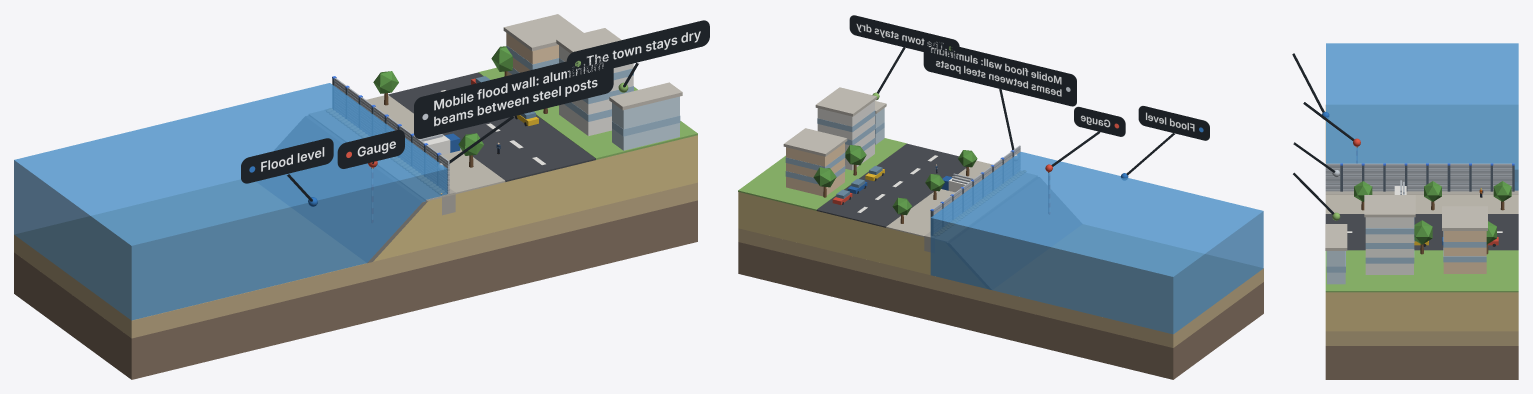
The model's file is mobilgat-feliratok-en.glb.
3 renders of one model, left to right at view 1: azimuth 30°, elevation 25°; view 2: azimuth 150°, elevation 25°; view 3: azimuth 270°, elevation 25°, orthographic. The views are drawn at different scales.
Parts seen in each view (by area): view 1: folyo, part_m_c9b48c, part_m_8f7a68, part_m_e0c98f, part_m_8c8a86, label_0, part_m_4a4e55, label_6, part_m_c9c4b8, part_m_cfcac0, label_3, part_m_cfe3ef (+7 smaller); view 2: folyo, part_m_c9b48c, part_m_8f7a68, part_m_e0c98f, part_m_8c8a86, part_m_4a4e55, label_0, part_m_8fbf6a, part_m_c9c4b8, part_m_cfcac0, label_6, part_m_f4f3ef (+5 smaller); view 3: folyo, part_m_c9b48c, part_m_e0c98f, part_m_8f7a68, part_m_8fbf6a, g_m_c0c7cf (×7), part_m_cfcac0, part_m_4a4e55, g_m_aeb6bf (×6), part_m_c9c4b8, part_m_f4f3ef, part_m_a9c8de (+5 smaller).
Part boxes in pixels (x1,y1,x2,y2): folyo: (14, 83, 447, 320); part_m_c9b48c: (14, 180, 697, 338); part_m_8f7a68: (14, 200, 697, 379); part_m_e0c98f: (373, 135, 697, 261); part_m_8c8a86: (257, 116, 427, 263); label_0: (414, 52, 613, 138); part_m_4a4e55: (388, 72, 595, 181); label_6: (566, 20, 709, 77); part_m_c9c4b8: (309, 95, 505, 201); part_m_cfcac0: (503, 14, 682, 110); label_3: (241, 138, 333, 183); part_m_cfe3ef: (612, 96, 679, 150); folyo: (930, 152, 1263, 334); part_m_c9b48c: (738, 225, 1263, 347); part_m_8f7a68: (738, 242, 1263, 379); part_m_e0c98f: (738, 192, 986, 288); part_m_8c8a86: (947, 177, 1081, 289); part_m_4a4e55: (816, 143, 966, 227); label_0: (923, 39, 1076, 106); part_m_8fbf6a: (738, 138, 906, 210); part_m_c9c4b8: (886, 160, 1036, 241); part_m_cfcac0: (783, 87, 886, 156); label_6: (849, 15, 959, 59); part_m_f4f3ef: (817, 101, 1050, 212); folyo: (1326, 43, 1518, 190); part_m_c9b48c: (1325, 105, 1518, 345); part_m_e0c98f: (1325, 292, 1518, 331); part_m_8f7a68: (1325, 346, 1518, 379); part_m_8fbf6a: (1325, 250, 1518, 292); g_m_c0c7cf (×7): (1325, 163, 1512, 191); part_m_cfcac0: (1325, 195, 1487, 250); part_m_4a4e55: (1325, 214, 1518, 250); g_m_aeb6bf (×6): (1325, 166, 1512, 189); part_m_c9c4b8: (1325, 183, 1518, 213); part_m_f4f3ef: (1347, 146, 1502, 274); part_m_a9c8de: (1326, 217, 1486, 272).
Bounding box in the file's own units: 0.5 × 0.202 × 0.2111.
46 materials, 4 textured.
